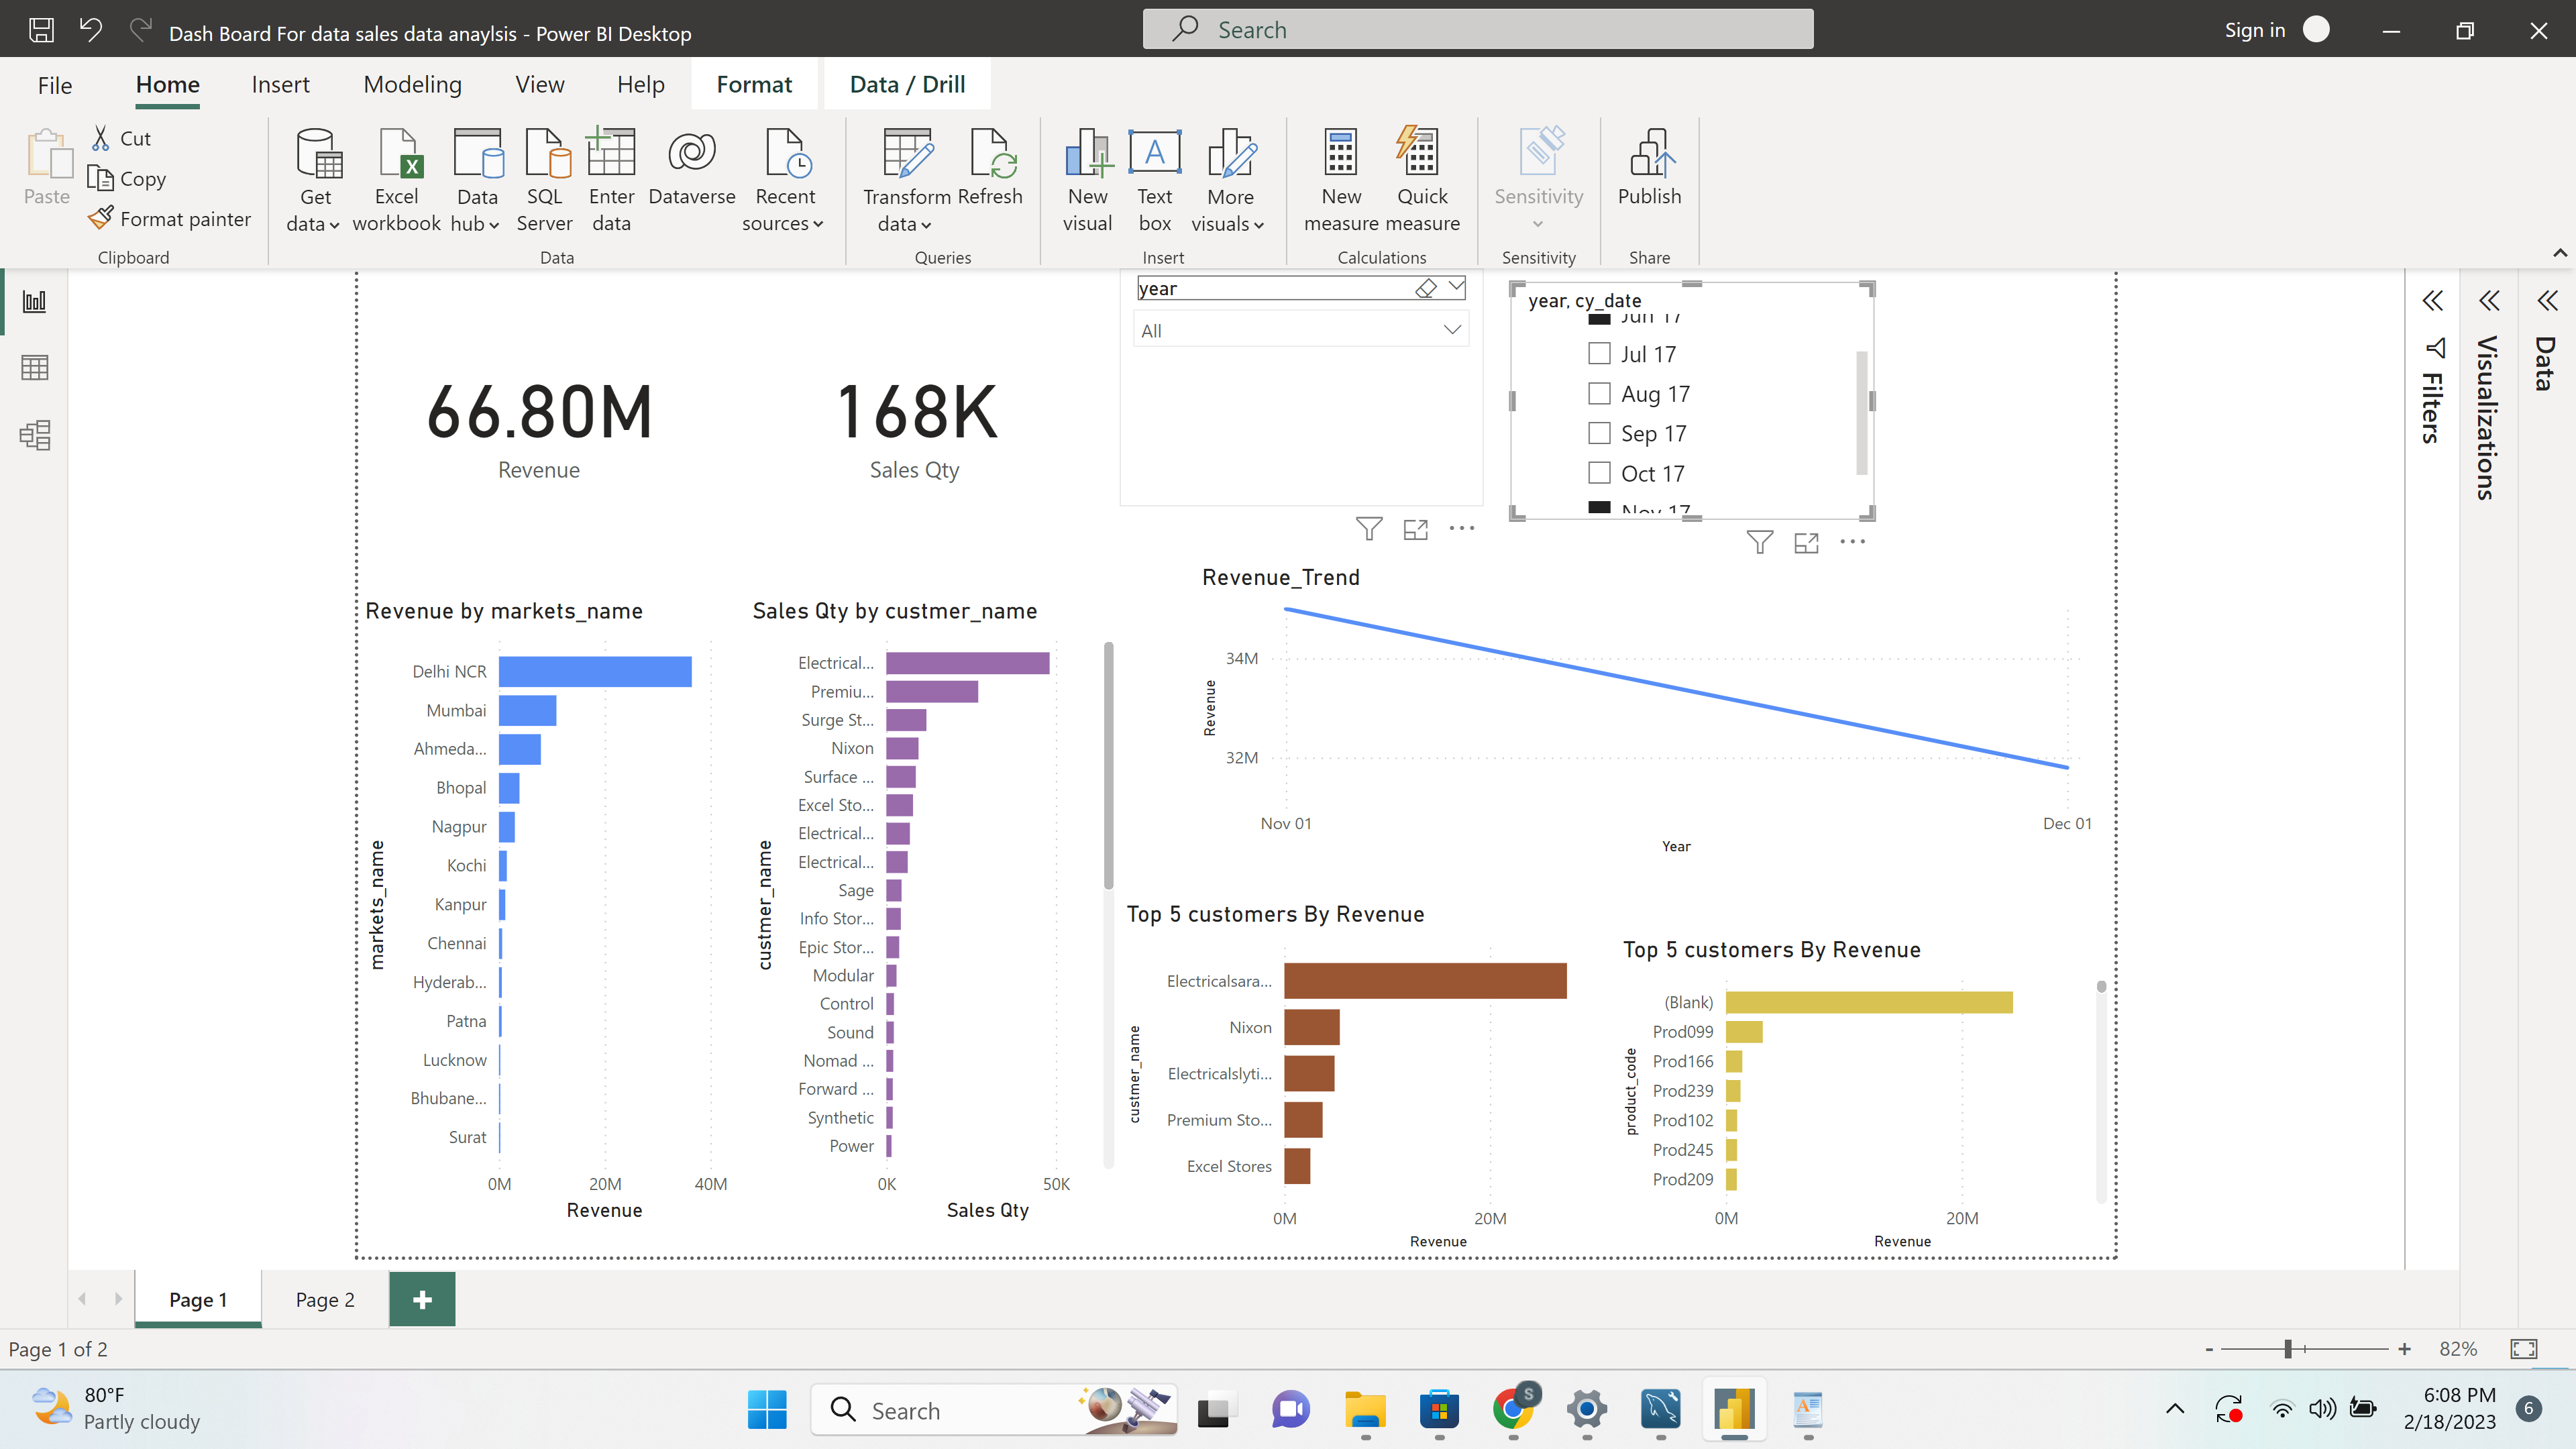

What the dashboard file says about the page in this screenshot:
{"tool":"powerbi","page":{"name":"Page 1","canvas":[1280,720],"ordinal":0},"visuals":[{"type":"card","fields":{"Values":["BaseMeasures.Revenue"]},"box":[0,0,263.5,215.4],"z":0},{"type":"card","fields":{"Values":["BaseMeasures.Sales Qty"]},"box":[273.5,0,263.5,215.4],"z":1000},{"type":"barChart","fields":{"Y":["BaseMeasures.Revenue"],"Category":["sales markets.markets_name","sales customers (2).custmer_name"]},"box":[0,239.8,273.7,459.3],"z":2000},{"type":"barChart","fields":{"Y":["BaseMeasures.Sales Qty"],"Category":["sales customers (2).custmer_name"]},"box":[281.8,239.8,273.7,459.3],"z":3000},{"type":"slicer","fields":{"Values":["sales date.year"]},"box":[546,0,265.5,173.4],"z":4000},{"type":"textbox","box":[828.5,0,265,270],"z":5000},{"type":"slicer","fields":{"Values":["sales date.year","sales date.cy_date"]},"box":[840,9.5,265.5,173.4],"z":6000},{"type":"slicer","fields":{"Values":["sales date.year"]},"box":[555,0,265.3,173.6],"z":7000},{"type":"barChart","title":"Top 5 customers By Revenue","fields":{"Y":["BaseMeasures.Revenue"],"Category":["sales customers (2).custmer_name"]},"box":[555,460.8,361.8,259.2],"z":8000},{"type":"barChart","title":"Top 5 customers By Revenue","fields":{"Y":["BaseMeasures.Revenue"],"Category":["sales products.product_code"]},"box":[916.8,486.5,363.1,233.5],"z":9000},{"type":"lineChart","title":"Revenue_Trend","fields":{"Category":["sales date.cy_date.Variation.Date Hierarchy.Year","sales date.cy_date.Variation.Date Hierarchy.Quarter","sales date.cy_date.Variation.Date Hierarchy.Month","sales date.cy_date.Variation.Date Hierarchy.Day"],"Y":["BaseMeasures.Revenue"]},"box":[609.7,215.4,659.8,216.8],"z":10000}]}

Visuals, with their boxes on the page's 1280x720 design canvas (x1, y1, x2, y2). These are canvas units, not pixel positions in the 2576x1449 screenshot, which may show the page scaled, cropped or inside an application window:
card - BaseMeasures.Revenue: (0, 0, 264, 215)
card - BaseMeasures.Sales Qty: (274, 0, 537, 215)
barChart - BaseMeasures.Revenue x sales markets.markets_name: (0, 240, 274, 699)
barChart - BaseMeasures.Sales Qty x sales customers (2).custmer_name: (282, 240, 556, 699)
slicer - sales date.year: (546, 0, 812, 173)
textbox: (828, 0, 1094, 270)
slicer - sales date.year x sales date.cy_date: (840, 10, 1106, 183)
slicer - sales date.year: (555, 0, 820, 174)
"Top 5 customers By Revenue" barChart: (555, 461, 917, 720)
"Top 5 customers By Revenue" barChart: (917, 486, 1280, 720)
"Revenue_Trend" lineChart: (610, 215, 1270, 432)
